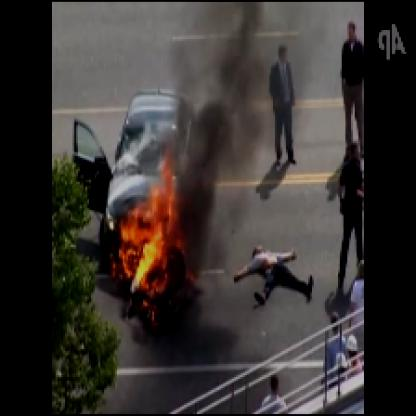Fire: (106, 132, 202, 321)
Smoke: (176, 2, 273, 260)
